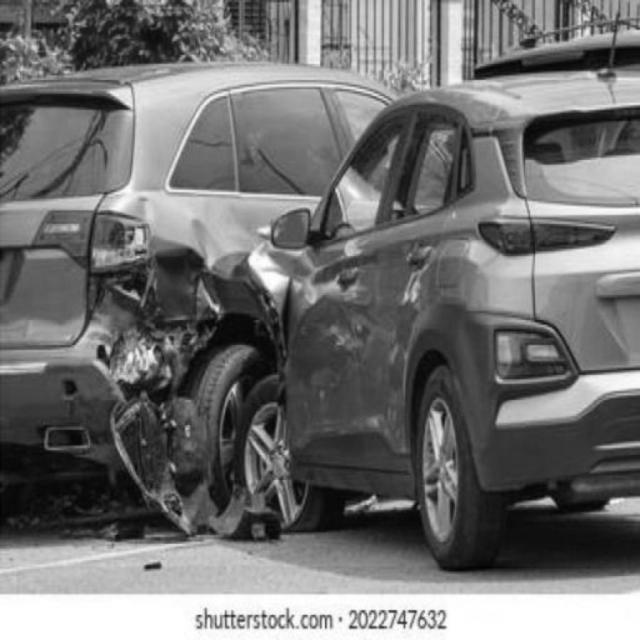accident: (1, 73, 639, 567)
